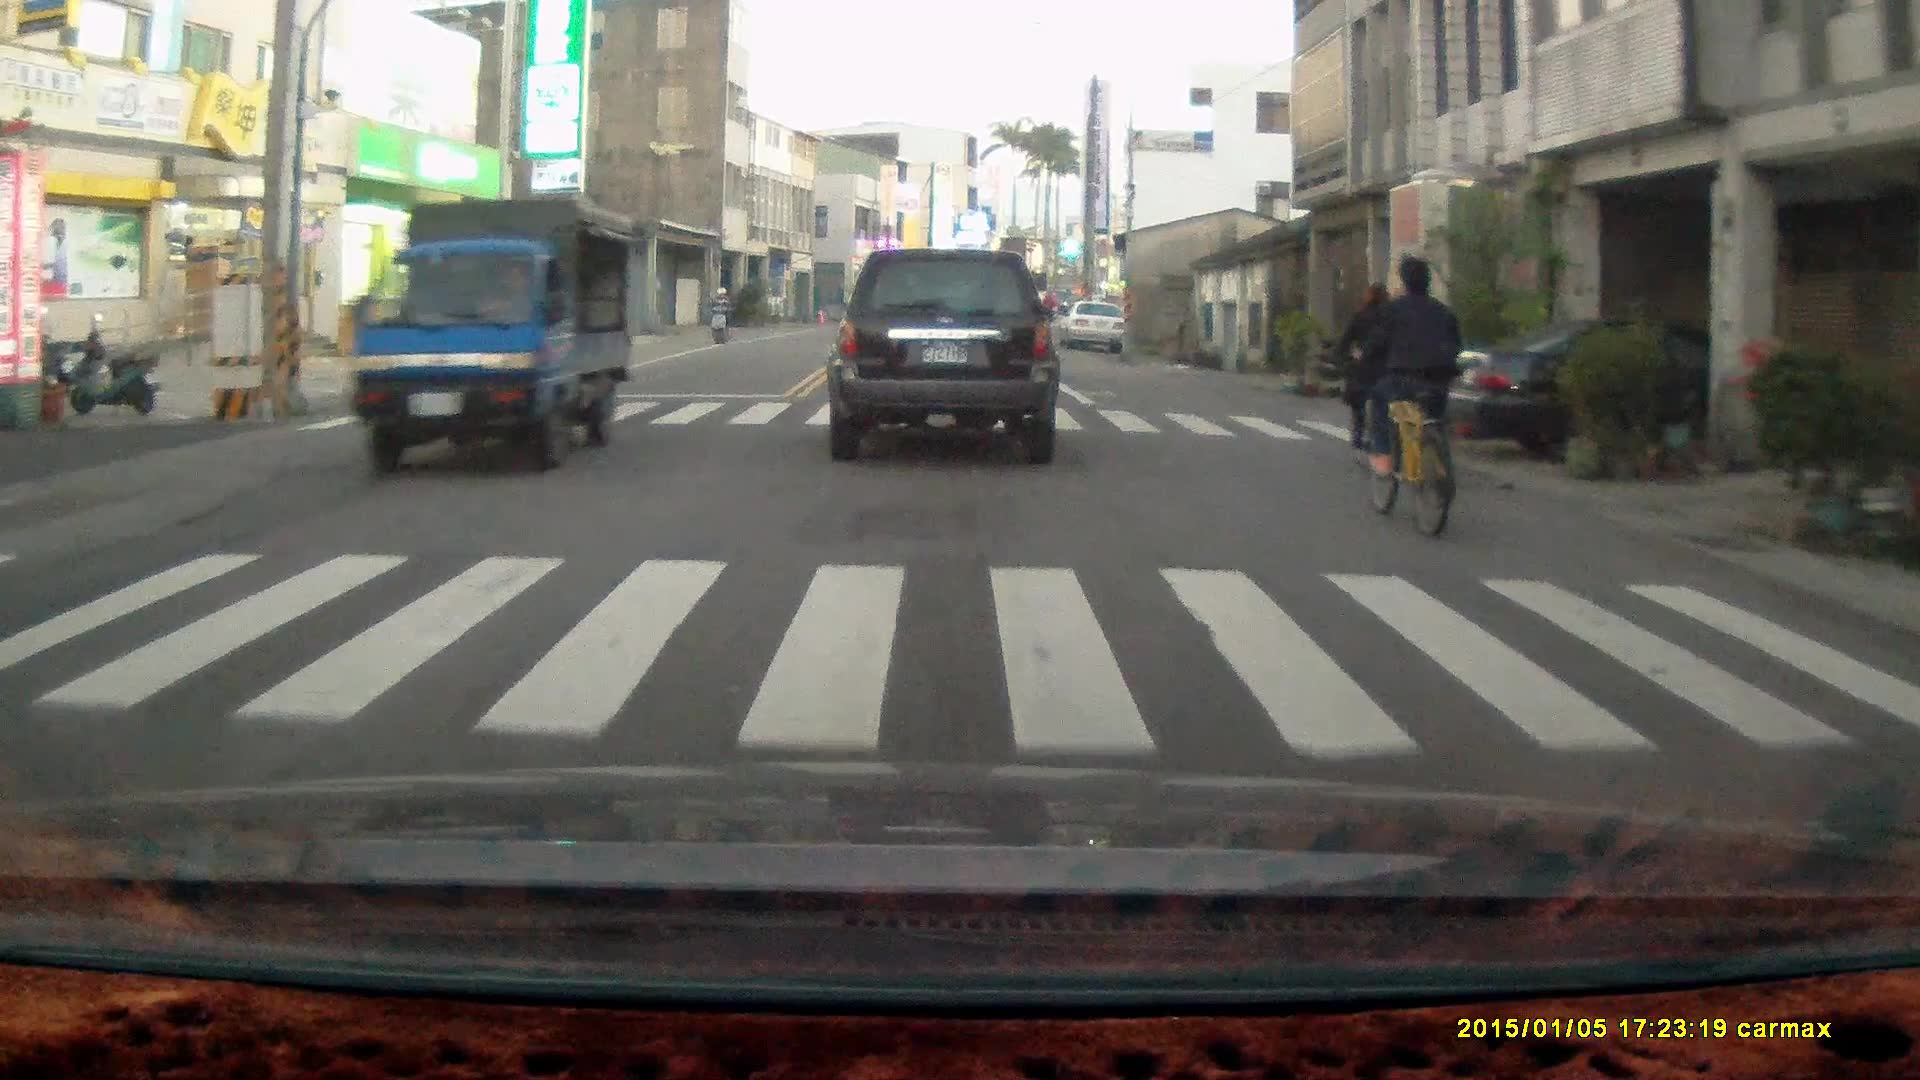rider: (1353, 254, 1461, 542), (1331, 279, 1403, 474), (706, 284, 732, 345)
vehicle: (347, 195, 645, 477), (1441, 316, 1874, 468), (825, 246, 1062, 467), (1058, 303, 1132, 357)
